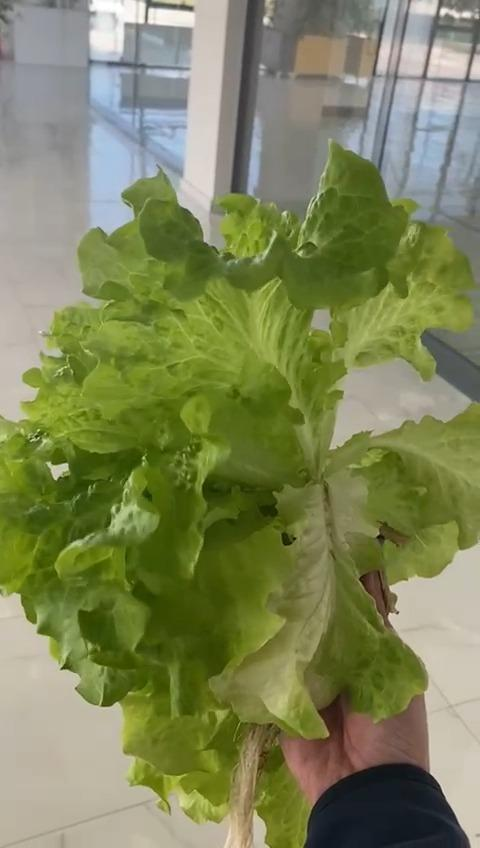Healthy: (0, 143, 480, 848)
